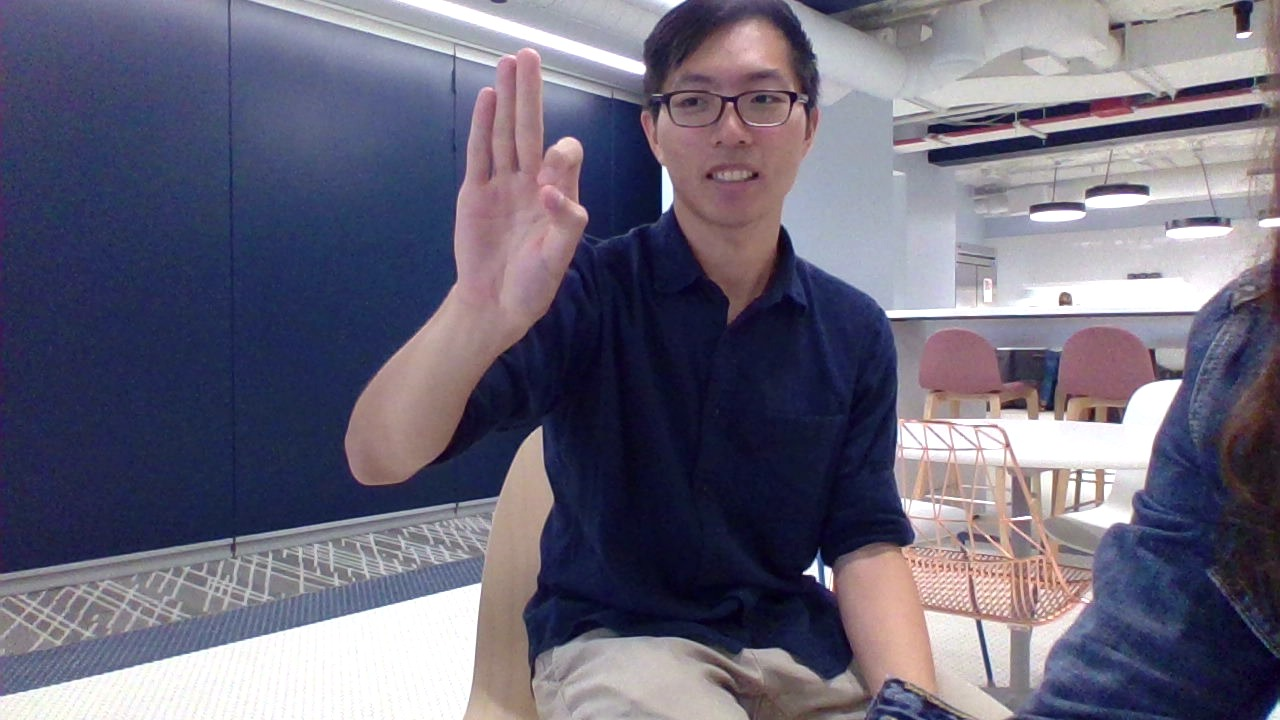f: (442, 38, 594, 348)
